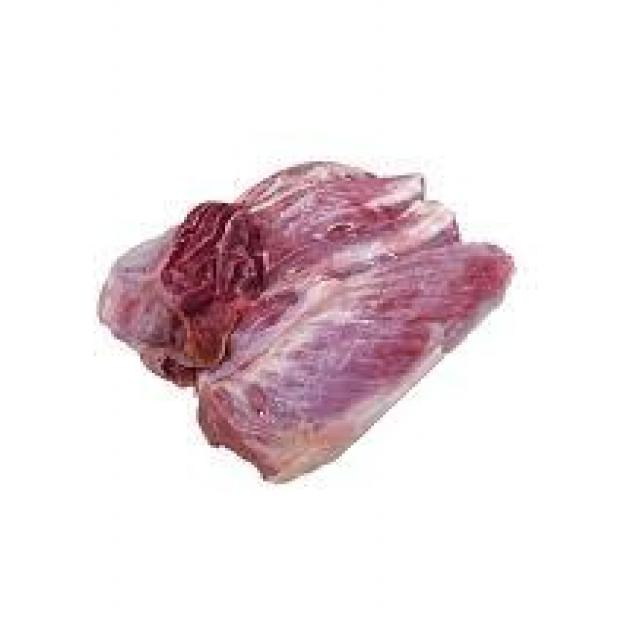beef: (116, 165, 519, 470)
